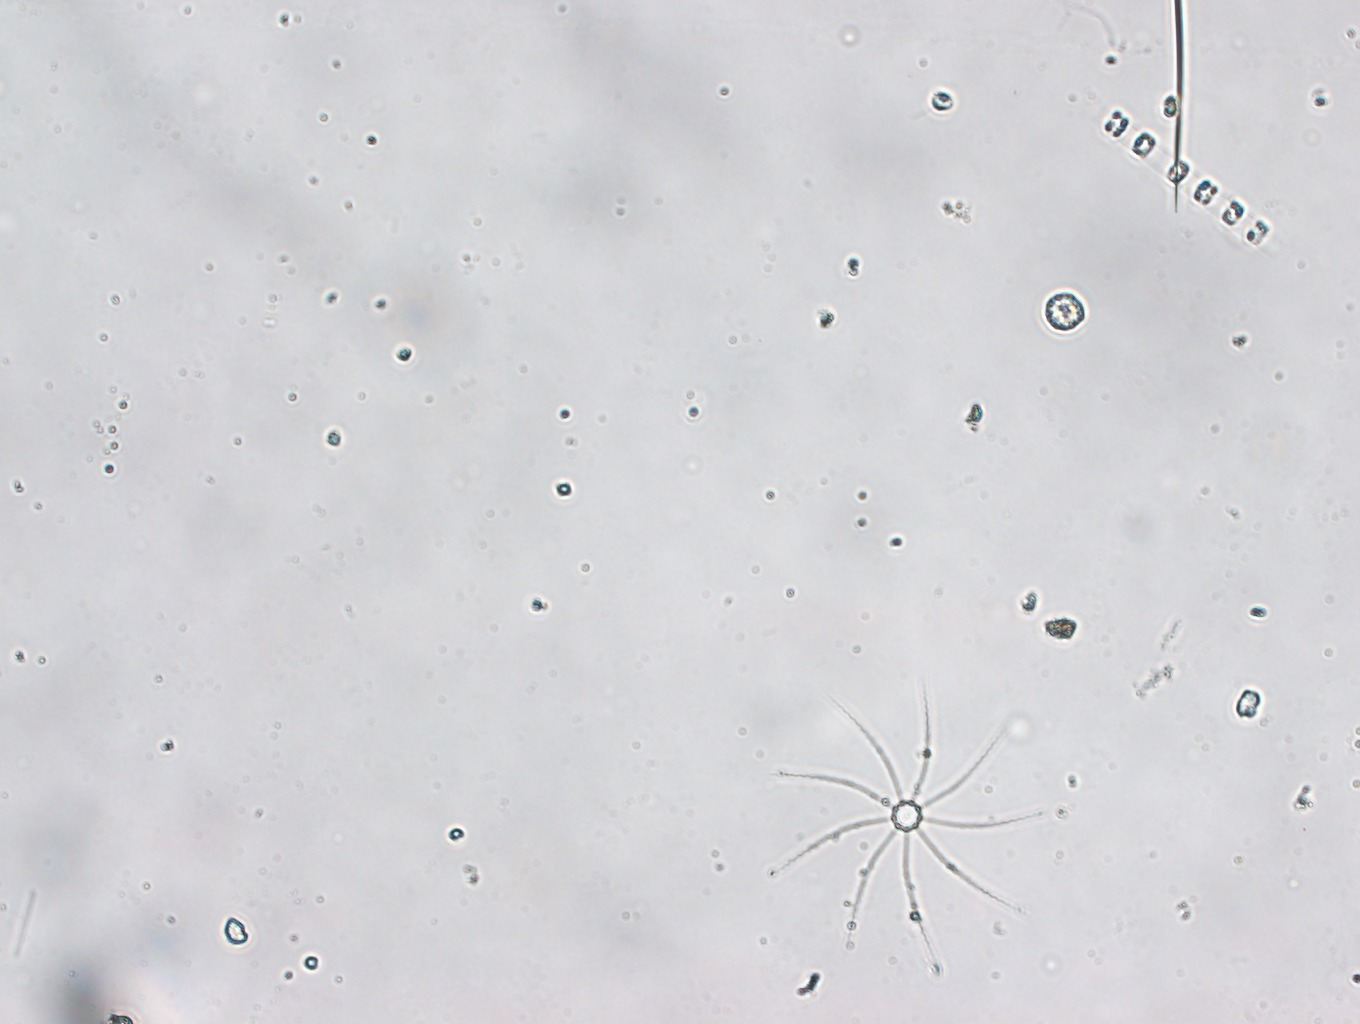bacteriastrum: (762, 682, 1053, 964)
skeletonema: (1102, 105, 1274, 248)
